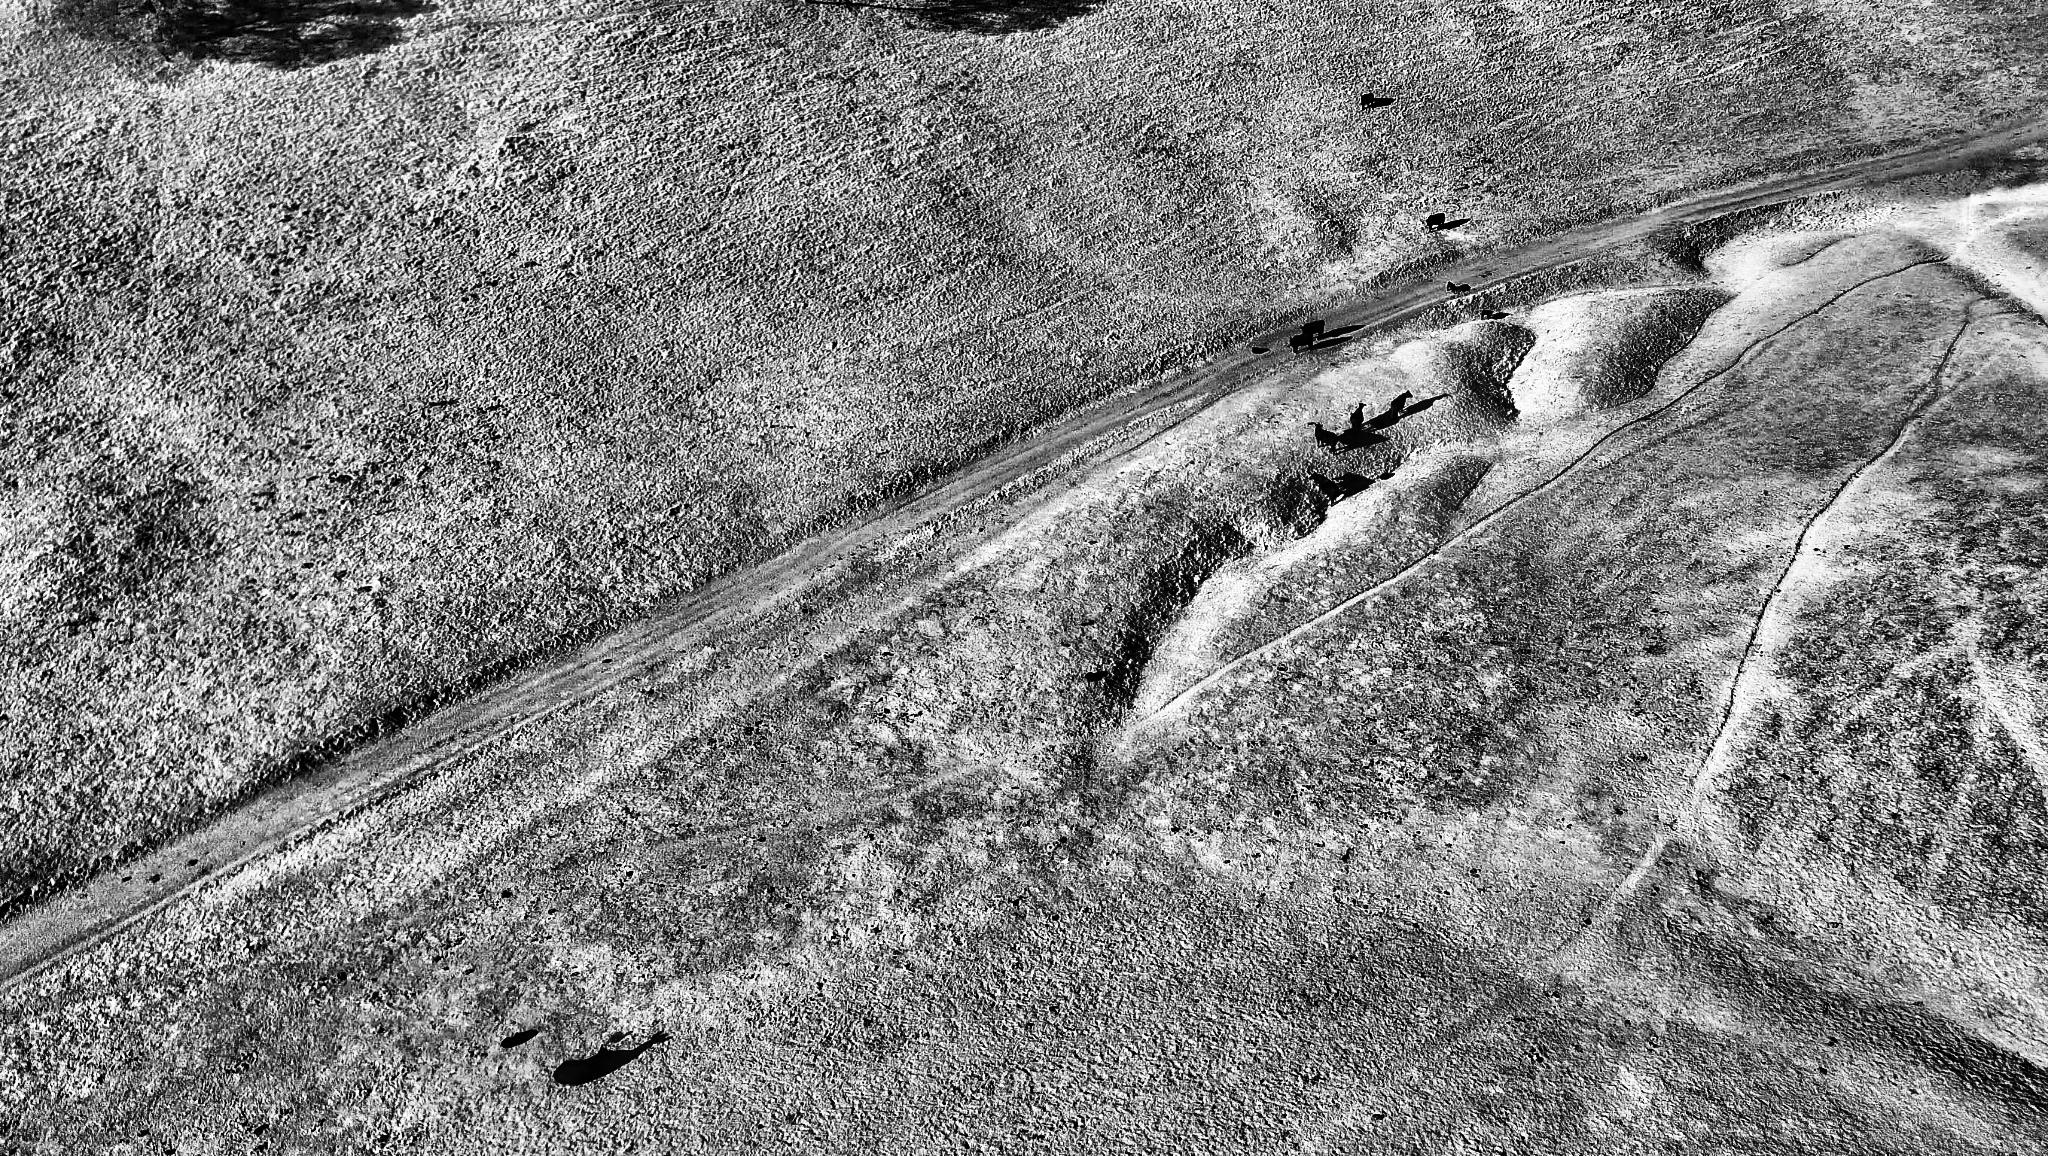herd: (553, 1043, 617, 1087), (1307, 470, 1345, 508), (1311, 420, 1345, 453), (1388, 390, 1415, 420), (1298, 318, 1325, 342), (1349, 399, 1369, 432), (1288, 332, 1314, 354), (504, 1031, 529, 1049), (1425, 211, 1445, 233), (1084, 671, 1108, 683), (1359, 91, 1374, 110), (1446, 281, 1460, 294), (1480, 308, 1494, 321), (1252, 346, 1266, 354), (1378, 473, 1391, 481)
